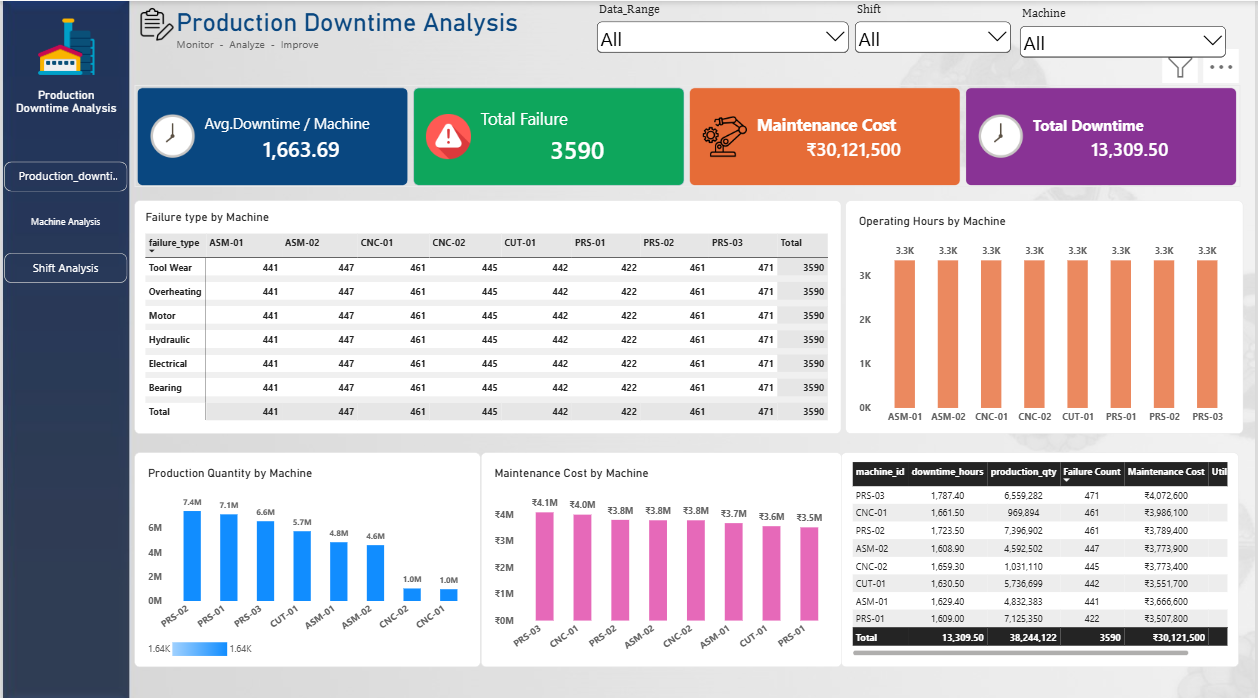

The dashboard page shown, as its layout file describes it:
{"tool":"powerbi","page":{"name":"Machine Analysis","canvas":[1920,1080],"ordinal":1},"visuals":[{"type":"cardVisual","title":"fgggn","fields":{"Data":["production_downtim_data.Avg.Downtime","production_downtim_data.Total Failure","production_downtim_data.Maintenance Cost","Sum(production_downtim_data.downtime_hours)"]},"box":[204.1,127.6,1693,158.3],"z":0},{"type":"textbox","title":"Production Downtime Analysis","box":[269.3,8.5,1024.9,66.6],"z":1000},{"type":"columnChart","title":"Operating Hours by Machine","fields":{"Category":["production_downtim_data.machine_id"],"Y":["Sum(Machine_master.capacity_per_hour)"]},"box":[1292.6,306.1,609.5,357.2],"z":2000},{"type":"columnChart","title":"Production Quantity by Machine","fields":{"Category":["production_downtim_data.machine_id"],"Y":["Sum(production_downtim_data.production_qty)"]},"box":[204.1,691.7,530.1,328.8],"z":3000},{"type":"columnChart","title":"Maintenance Cost by Machine","fields":{"Category":["production_downtim_data.machine_id"],"Y":["production_downtim_data.Maintenance Cost"]},"box":[734.2,691.7,552.8,328.8],"z":4000},{"type":"tableEx","fields":{"Values":["production_downtim_data.machine_id","Sum(production_downtim_data.downtime_hours)","Sum(production_downtim_data.production_qty)","production_downtim_data.Failure Count","production_downtim_data.Maintenance Cost","production_downtim_data.Utilization %"]},"box":[1286.9,691.7,609.5,328.8],"z":5000},{"type":"pivotTable","title":"Failure type by Machine","fields":{"Columns":["production_downtim_data.machine_id"],"Rows":["production_downtim_data.failure_type"],"Values":["production_downtim_data.Total Failure"]},"box":[204.1,306.1,1082.8,357.2],"z":6000},{"type":"textbox","title":"Production Downtime Analysis","box":[16.1,133.3,167.7,55.1],"z":7000},{"type":"image","box":[16.1,20.7,167.7,98.8],"z":8000},{"type":"image","box":[213.7,0,50.6,71.2],"z":9000},{"type":"slicer","fields":{"Values":["production_downtim_data.shift"]},"box":[1302.9,2.8,248.7,101.7],"z":10000},{"type":"slicer","fields":{"Values":["production_downtim_data.date (bins)"]},"box":[907.2,2.8,395.7,101.7],"z":11000},{"type":"slicer","fields":{"Values":["production_downtim_data.machine_id"]},"box":[1556.2,8.5,326,102],"z":12000},{"type":"pageNavigator","box":[5.7,245.9,189.4,186.5],"z":13000}]}

Visuals, with their boxes on the page's 1920x1080 design canvas (x1, y1, x2, y2). These are canvas units, not pixel positions in the 1258x698 screenshot, which may show the page scaled, cropped or inside an application window:
"fgggn" cardVisual: rect(204, 128, 1897, 286)
"Production Downtime Analysis" textbox: rect(269, 8, 1294, 75)
"Operating Hours by Machine" columnChart: rect(1293, 306, 1902, 663)
"Production Quantity by Machine" columnChart: rect(204, 692, 734, 1020)
"Maintenance Cost by Machine" columnChart: rect(734, 692, 1287, 1020)
tableEx - production_downtim_data.machine_id x Sum(production_downtim_data.downtime_hours): rect(1287, 692, 1896, 1020)
"Failure type by Machine" pivotTable: rect(204, 306, 1287, 663)
"Production Downtime Analysis" textbox: rect(16, 133, 184, 188)
image: rect(16, 21, 184, 120)
image: rect(214, 0, 264, 71)
slicer - production_downtim_data.shift: rect(1303, 3, 1552, 104)
slicer - production_downtim_data.date (bins): rect(907, 3, 1303, 104)
slicer - production_downtim_data.machine_id: rect(1556, 8, 1882, 110)
pageNavigator: rect(6, 246, 195, 432)
